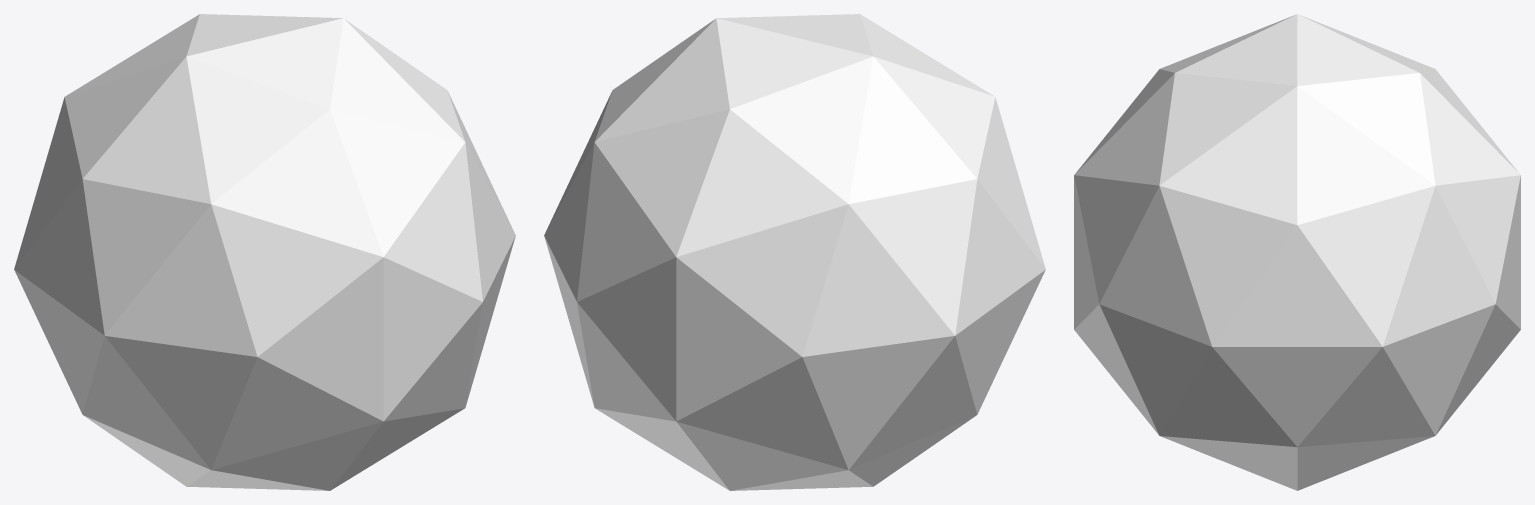
File: pentakis-dodecahedron.gltf
The picture shows the model from 3 angles, left to right: view 1: azimuth 30°, elevation 25°; view 2: azimuth 150°, elevation 25°; view 3: azimuth 270°, elevation 25°; orthographic projection. The views are drawn at different scales.
Parts seen in each view (by area): view 1: Pentakisdodeca; view 2: Pentakisdodeca; view 3: Pentakisdodeca.
Boxes of the visible parts, <box> form: Pentakisdodeca: <box>14,14,515,490</box>; Pentakisdodeca: <box>544,14,1045,490</box>; Pentakisdodeca: <box>1074,14,1520,490</box>.
Size of the model in its own units: 9.79 by 9.79 by 9.79.
1 material, 1 textured.
